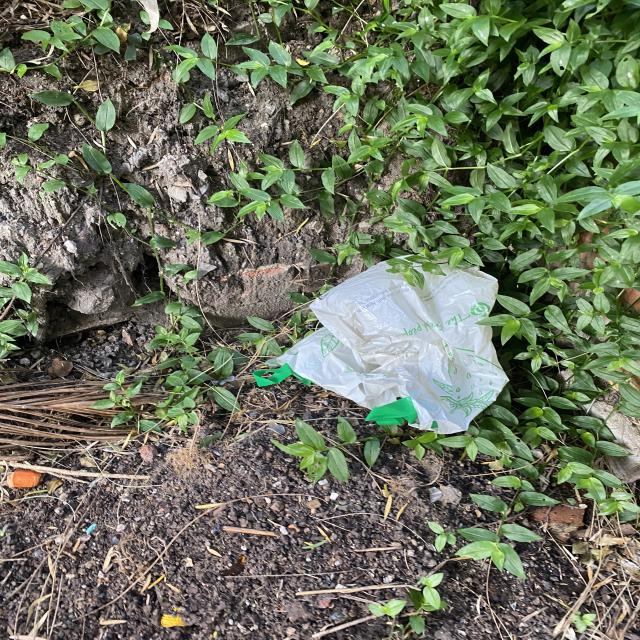bag: (248, 246, 516, 443)
